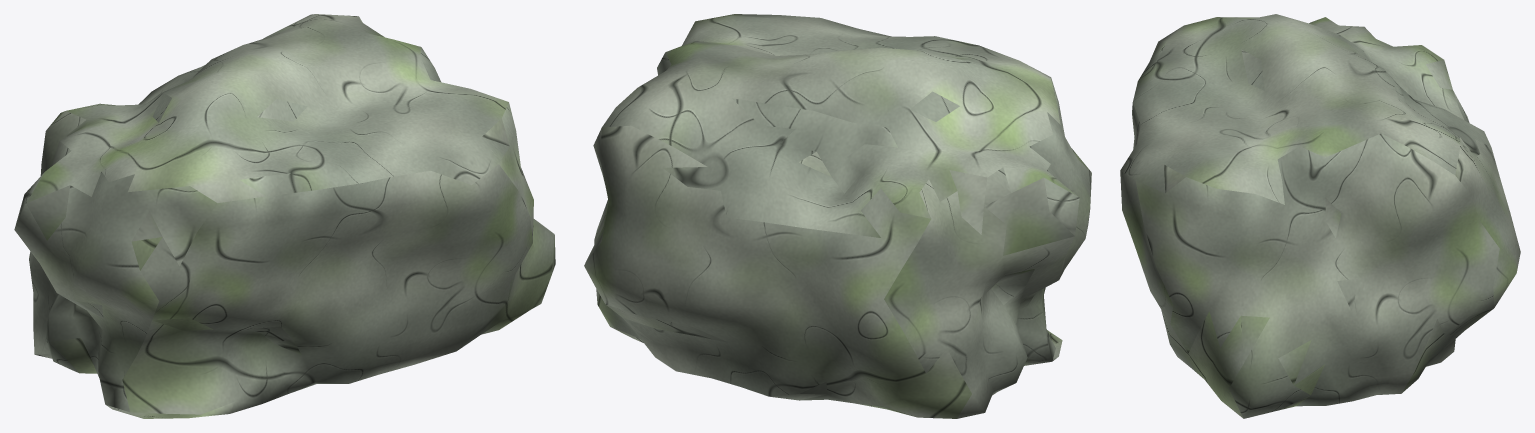
File: cliff_rock_a.glb
The picture shows the model from 3 angles, left to right: view 1: azimuth 30°, elevation 25°; view 2: azimuth 150°, elevation 25°; view 3: azimuth 270°, elevation 25°; orthographic projection. The views are drawn at different scales.
Visible parts, largest first — view 1: cliff_rock_a; view 2: cliff_rock_a; view 3: cliff_rock_a.
Part boxes in pixels (x1,y1,x2,y2): cliff_rock_a: (14,14,555,418); cliff_rock_a: (584,14,1091,418); cliff_rock_a: (1120,14,1520,418).
Size of the model in its own units: 2.82 by 1.5 by 2.08.
Materials: 1 (1 with a texture image).
